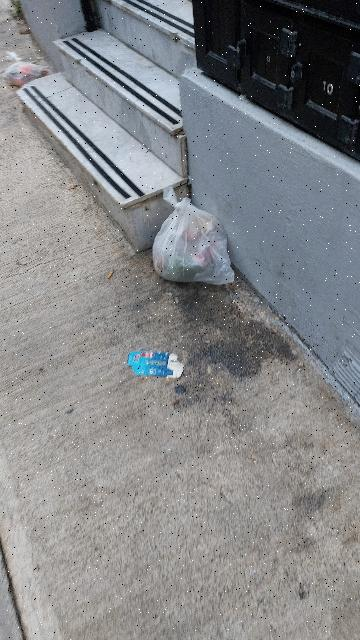Organic -White-: (153, 198, 234, 285), (3, 51, 49, 87)
Other: (127, 351, 184, 379)
